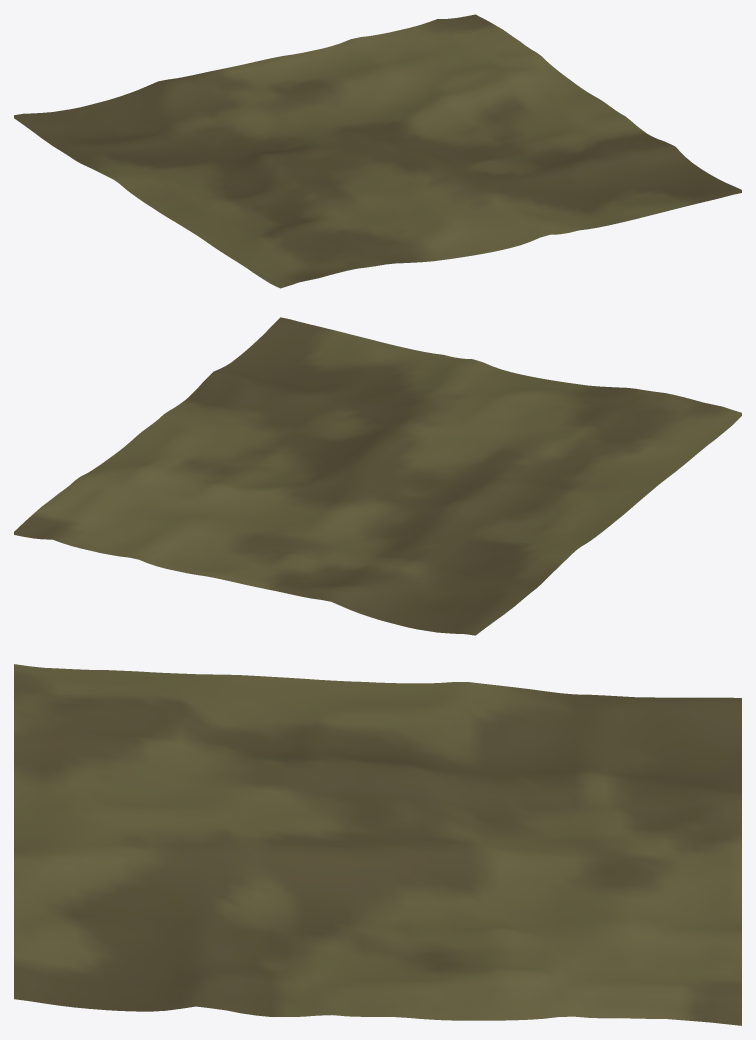
Rendered from land_m_01_10.glb.
3 renders of one model, top to bottom at view 1: azimuth 30°, elevation 25°; view 2: azimuth 150°, elevation 25°; view 3: azimuth 270°, elevation 25°, orthographic. The views are drawn at different scales.
Parts seen in each view (by area): view 1: land_m_01_10; view 2: land_m_01_10; view 3: land_m_01_10.
Part boxes in pixels (bbox=[...]): land_m_01_10: bbox=[14, 14, 741, 288]; land_m_01_10: bbox=[14, 317, 741, 635]; land_m_01_10: bbox=[14, 664, 741, 1025].
Size of the model in its own units: 960 by 81.83 by 960.
